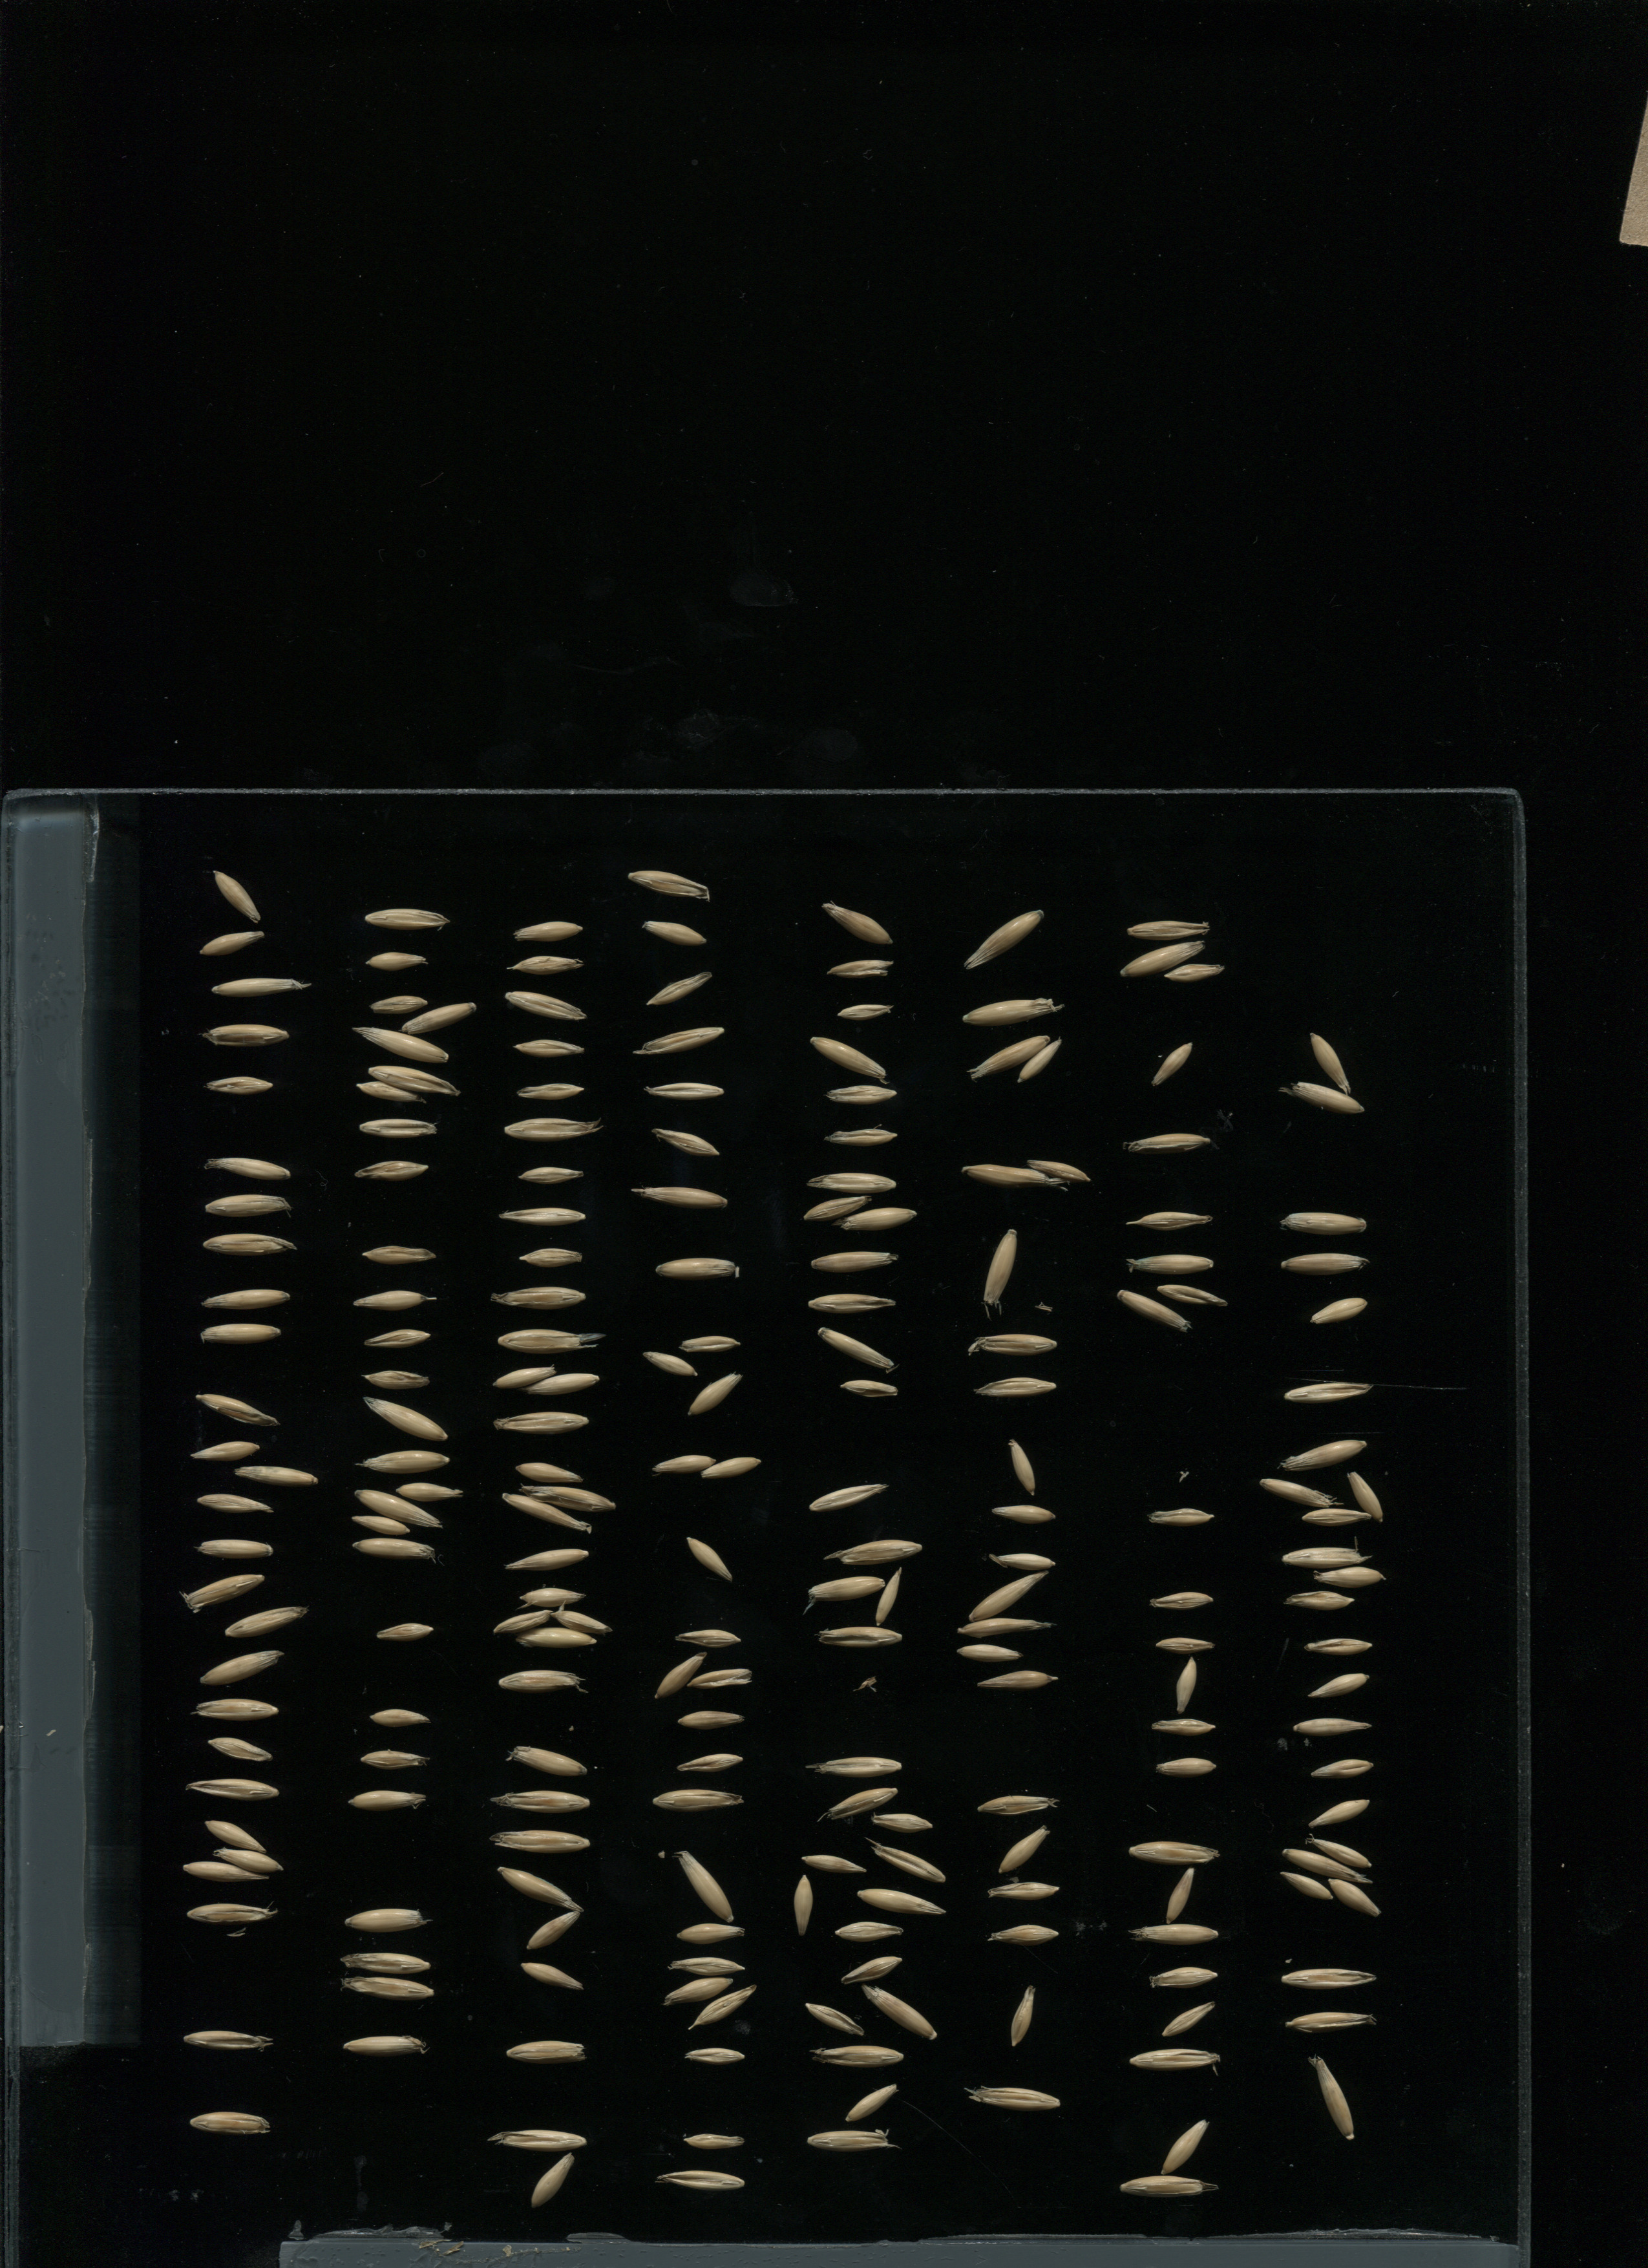WholeGrain: (960, 909, 1046, 970), (965, 1569, 1053, 1622), (861, 1981, 938, 2039), (1308, 2053, 1357, 2143), (491, 1867, 583, 1914), (678, 1847, 734, 1921), (1278, 1845, 1375, 1888), (364, 1395, 449, 1442), (1116, 935, 1211, 977), (806, 1035, 887, 1085), (352, 1488, 445, 1530), (350, 1027, 451, 1065), (813, 1324, 894, 1372), (500, 1491, 592, 1532), (1115, 1287, 1192, 1335), (972, 1034, 1053, 1078), (822, 900, 894, 947), (181, 1572, 268, 1611), (1159, 2117, 1213, 2176), (961, 995, 1063, 1027), (963, 2081, 1065, 2113), (868, 1844, 947, 1884), (813, 1786, 900, 1823), (195, 1650, 285, 1685), (688, 1983, 757, 2029), (364, 1064, 458, 1097), (1276, 1437, 1370, 1470), (1287, 1079, 1370, 1116), (518, 1483, 620, 1513), (194, 1391, 280, 1426), (805, 1479, 891, 1514), (625, 868, 710, 903), (982, 1226, 1018, 1308), (1280, 1206, 1372, 1238), (828, 1537, 924, 1567), (222, 1604, 308, 1638), (1308, 1028, 1352, 1093), (488, 1828, 595, 1854), (338, 1974, 437, 2002), (854, 1888, 945, 1918), (509, 1743, 590, 1777), (630, 1183, 732, 1210), (213, 870, 262, 924), (687, 1372, 745, 1417), (352, 1449, 452, 1476), (495, 1326, 602, 1351), (187, 2108, 275, 2138), (523, 1911, 585, 1953), (651, 1650, 706, 1697), (528, 2152, 576, 2206), (806, 1571, 887, 1602), (1257, 1476, 1338, 1507), (1116, 2175, 1220, 2199), (504, 990, 588, 1020), (342, 1905, 431, 1933), (958, 1164, 1060, 1189), (998, 1824, 1049, 1874), (651, 1257, 747, 1284), (636, 1027, 724, 1055), (1285, 2007, 1379, 2034), (1324, 1877, 1382, 1919), (502, 1116, 600, 1141), (491, 1410, 590, 1435), (972, 1329, 1058, 1358), (1127, 2048, 1225, 2073), (201, 1285, 292, 1312), (180, 1858, 271, 1884), (657, 2168, 748, 2194), (1306, 1835, 1375, 1870), (401, 1002, 477, 1034), (491, 1791, 595, 1814), (644, 970, 715, 1004), (518, 1958, 588, 1992), (199, 1192, 294, 1217), (199, 1231, 294, 1255), (338, 1949, 433, 1974), (685, 1535, 734, 1583), (1127, 1840, 1222, 1865), (363, 905, 451, 932), (803, 2127, 896, 2152), (488, 1285, 588, 1308), (204, 1155, 291, 1182), (646, 1789, 754, 1810), (815, 1625, 907, 1650), (1122, 1208, 1220, 1231), (1280, 1965, 1379, 1988), (352, 1534, 437, 1560), (204, 1819, 268, 1854), (953, 1615, 1058, 1636), (211, 976, 308, 998), (1125, 1252, 1215, 1277), (1345, 1470, 1386, 1525), (1016, 1035, 1063, 1081), (187, 1778, 282, 1801), (180, 2030, 275, 2053), (1122, 917, 1217, 940), (1282, 1381, 1377, 1403), (1150, 1039, 1194, 1088), (1125, 1132, 1213, 1157), (651, 1127, 724, 1157), (489, 2129, 592, 2150), (812, 1248, 898, 1273), (1306, 1296, 1370, 1329), (1305, 1798, 1372, 1830), (845, 2083, 900, 2122), (1160, 1999, 1215, 2037), (1278, 1250, 1370, 1273), (204, 1023, 289, 1048), (234, 1463, 319, 1488), (197, 928, 266, 958), (970, 1377, 1060, 1400), (192, 1697, 280, 1720), (340, 2034, 428, 2057), (497, 1669, 585, 1692), (185, 1904, 280, 1925), (813, 2046, 909, 2067), (1162, 1865, 1196, 1925), (192, 1537, 278, 1560), (504, 1548, 590, 1571), (974, 1669, 1060, 1692), (666, 1977, 734, 2006), (1132, 1923, 1224, 1944), (639, 1347, 703, 1377), (805, 2004, 864, 2036), (504, 2041, 586, 2064), (1291, 1713, 1373, 1736), (643, 919, 710, 947), (1306, 1671, 1373, 1699), (187, 1439, 262, 1463), (211, 1849, 287, 1874), (803, 1194, 873, 1220), (836, 1206, 917, 1229), (194, 1493, 275, 1516), (1007, 1435, 1037, 1497), (1276, 1870, 1335, 1902), (345, 1789, 431, 1810), (673, 1750, 747, 1775), (1282, 1546, 1368, 1567), (974, 1794, 1053, 1817), (1171, 1653, 1199, 1717), (810, 1756, 901, 1775), (206, 1736, 273, 1763), (518, 1373, 600, 1395), (808, 1173, 898, 1192), (806, 1292, 896, 1312), (512, 1460, 583, 1484), (873, 1565, 901, 1627), (799, 1852, 870, 1877), (1148, 1967, 1218, 1992), (356, 1159, 431, 1182), (1155, 1284, 1231, 1307), (787, 1874, 813, 1939), (838, 1956, 903, 1983), (644, 1079, 725, 1101), (357, 1118, 438, 1139), (199, 1322, 280, 1344), (512, 1629, 600, 1648), (363, 1243, 437, 1266), (1028, 1157, 1092, 1183), (514, 1245, 586, 1268), (695, 1456, 762, 1481), (356, 1081, 426, 1104), (363, 1328, 433, 1351), (497, 1208, 588, 1226), (352, 1291, 435, 1310), (512, 1037, 588, 1058), (1312, 1565, 1387, 1587), (1282, 1590, 1357, 1611), (514, 919, 583, 942), (1308, 1757, 1377, 1780), (824, 1085, 898, 1106), (356, 1749, 430, 1770), (551, 1609, 614, 1634), (488, 1609, 551, 1634), (988, 1879, 1062, 1900), (1146, 1717, 1220, 1738), (396, 1479, 463, 1502), (1009, 1984, 1034, 2046), (1301, 1636, 1379, 1655), (991, 1504, 1056, 1527), (990, 1550, 1055, 1572), (518, 1587, 588, 1608), (676, 1708, 747, 1729), (507, 956, 583, 976), (363, 951, 431, 972), (352, 1514, 416, 1537), (1151, 1757, 1220, 1778), (822, 960, 896, 979), (516, 1164, 583, 1185), (1148, 1507, 1215, 1528), (1148, 1590, 1215, 1611), (1162, 961, 1224, 984), (953, 1643, 1025, 1662), (990, 1923, 1062, 1942), (667, 1956, 747, 1974), (1298, 1507, 1377, 1525), (366, 1708, 431, 1729), (491, 1366, 556, 1388), (651, 1454, 717, 1476), (872, 1812, 937, 1833), (206, 1074, 275, 1093), (674, 1629, 743, 1648), (680, 2132, 748, 2152), (366, 993, 428, 1014), (514, 1083, 586, 1101), (835, 1923, 907, 1940), (674, 1925, 747, 1942), (687, 1669, 752, 1689), (840, 1379, 898, 1400), (676, 1335, 745, 1352), (824, 1129, 900, 1145), (363, 1370, 430, 1388), (835, 1002, 894, 1021), (375, 1622, 433, 1641), (683, 2048, 750, 2064), (1151, 1636, 1217, 1650)
